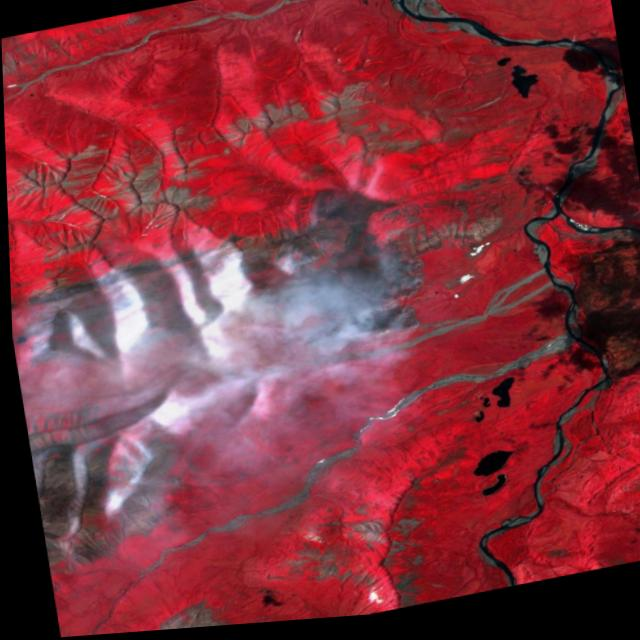fire: (227, 238, 433, 379)
